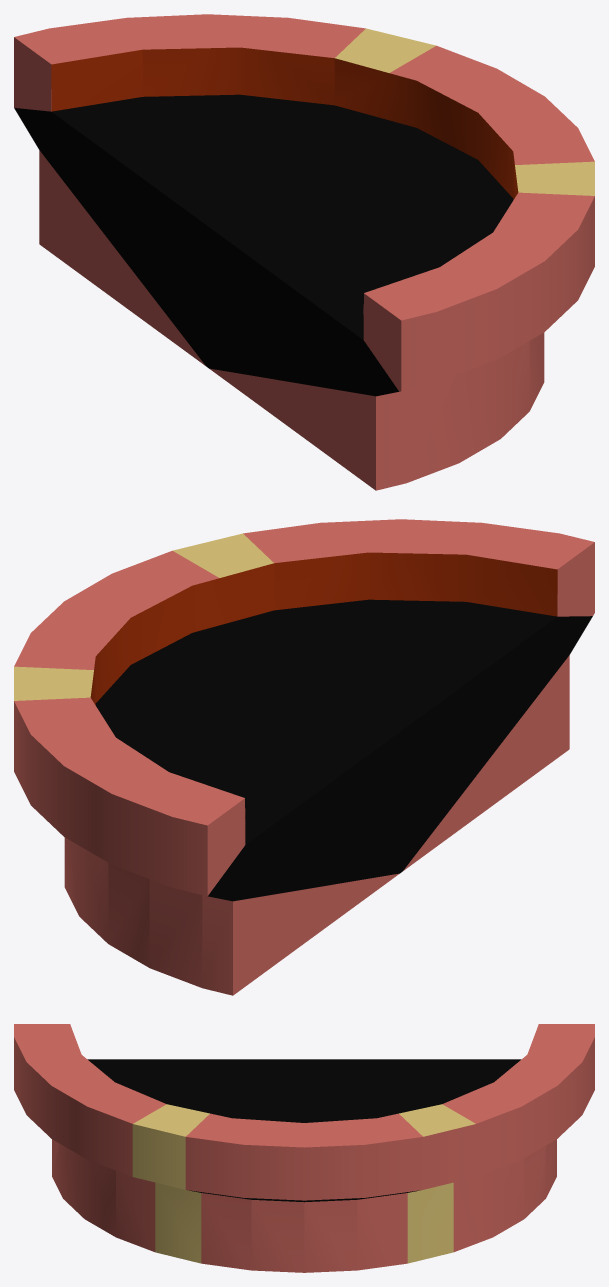
Rendered from br-m-pipe-orangeA.fbx.
The picture shows the model from 3 angles, top to bottom: view 1: azimuth 30°, elevation 25°; view 2: azimuth 150°, elevation 25°; view 3: azimuth 270°, elevation 25°; orthographic projection. The views are drawn at different scales.
Parts seen in each view (by area): view 1: pipeA_orange_m; view 2: pipeA_orange_m; view 3: pipeA_orange_m.
Part boxes in pixels (<box>): pipeA_orange_m: <box>14,14,594,490</box>; pipeA_orange_m: <box>14,519,594,995</box>; pipeA_orange_m: <box>14,1024,594,1272</box>.
Size of the model in its own units: 93.52 by 50 by 186.
